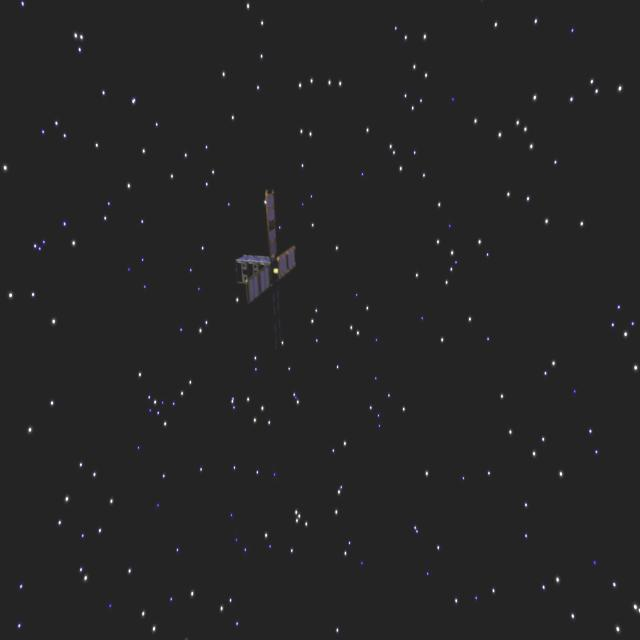medium_debris: (233, 190, 307, 308)
